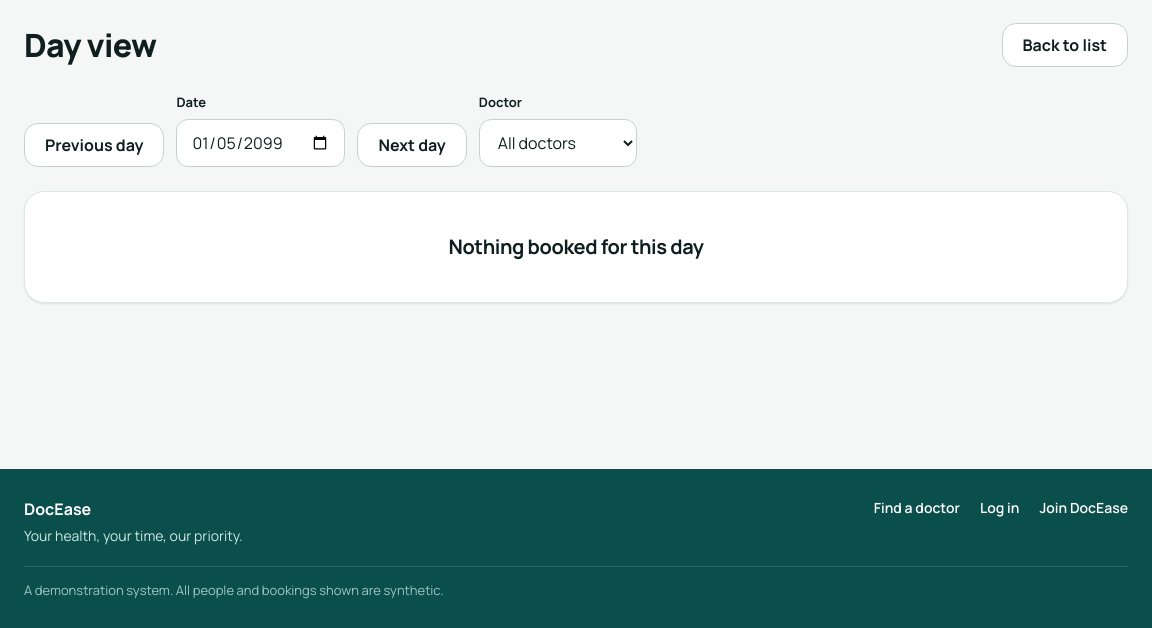
day view › shows an empty state and moves a day with the arrows
Expected: the heading "Nothing booked for this day" is shown, [448, 232, 704, 260]
Click the button "Next day".
click(412, 144)  # box [357, 122, 467, 166]
(page scrolled)
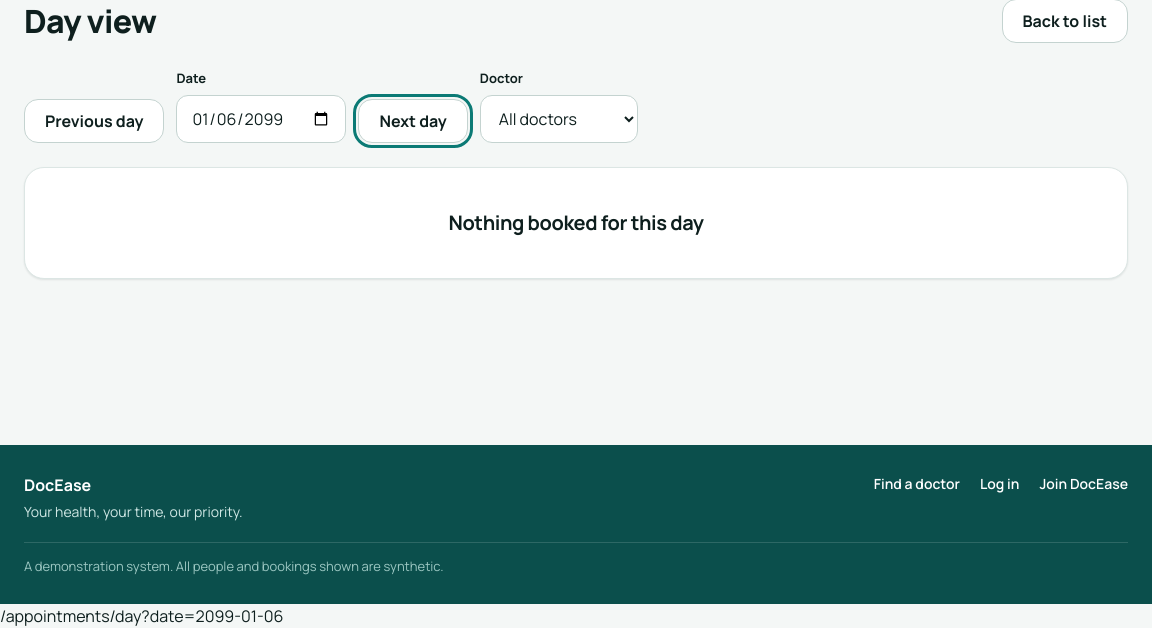
Expected: the date field labelled "Date" holds "2099-01-06", [176, 94, 346, 142]
Expected: the text with test id "location" reads "/appointments/day?date=2099-01-06", [0, 605, 283, 627]
